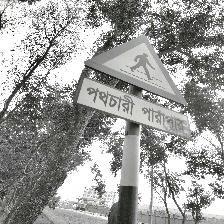Pedestrian-crossing: (74, 33, 192, 139)
